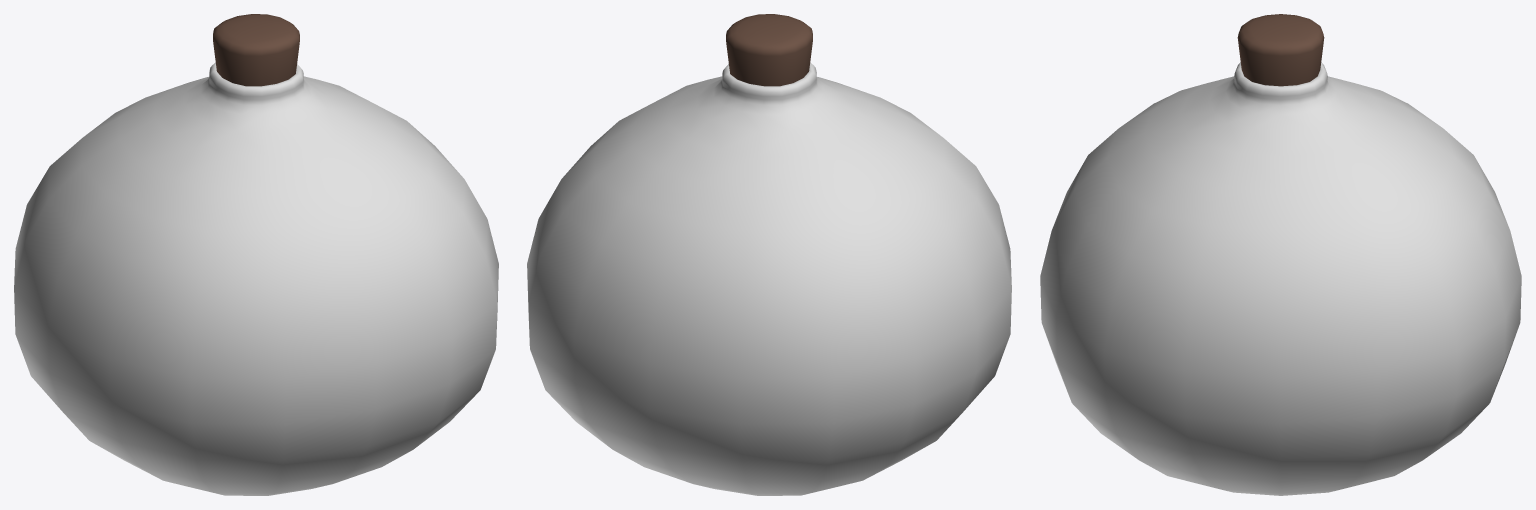
Rendered from Potion9_Empty.glb.
The picture shows the model from 3 angles, left to right: view 1: azimuth 30°, elevation 25°; view 2: azimuth 150°, elevation 25°; view 3: azimuth 270°, elevation 25°; orthographic projection.
Visible parts, largest first — view 1: Potion9_Empty; view 2: Potion9_Empty; view 3: Potion9_Empty.
Part boxes in pixels (x1=…): Potion9_Empty: x1=14, y1=14, x2=498, y2=495; Potion9_Empty: x1=527, y1=14, x2=1011, y2=495; Potion9_Empty: x1=1040, y1=14, x2=1521, y2=495.
Size of the model in its own units: 1.26 by 1.29 by 1.26.
